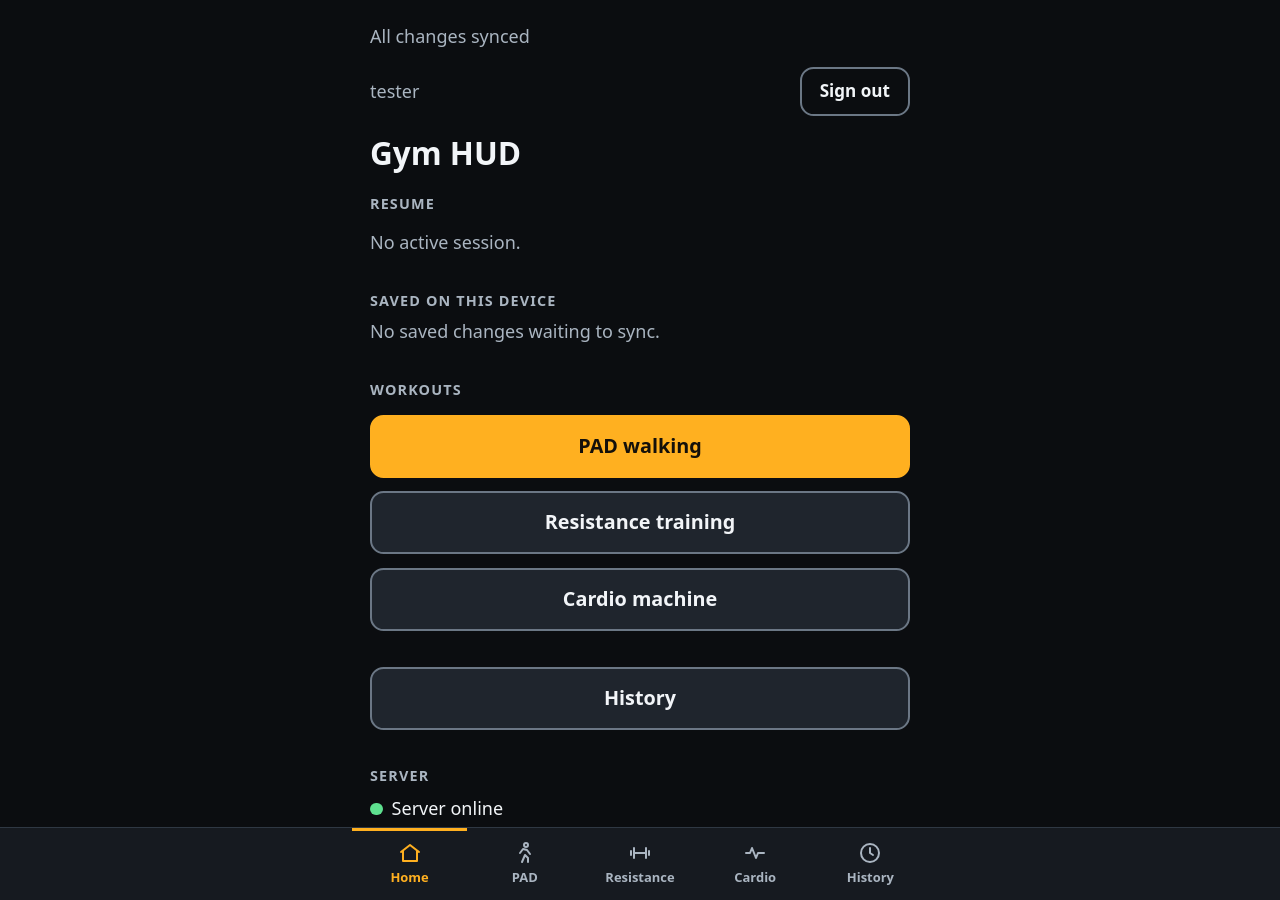
Test case: navigation smoke test › opens a domain screen from the Home workout buttons
Click the link "PAD walking".
click(640, 446)  # box top-left (370, 414), bottom-right (910, 478)
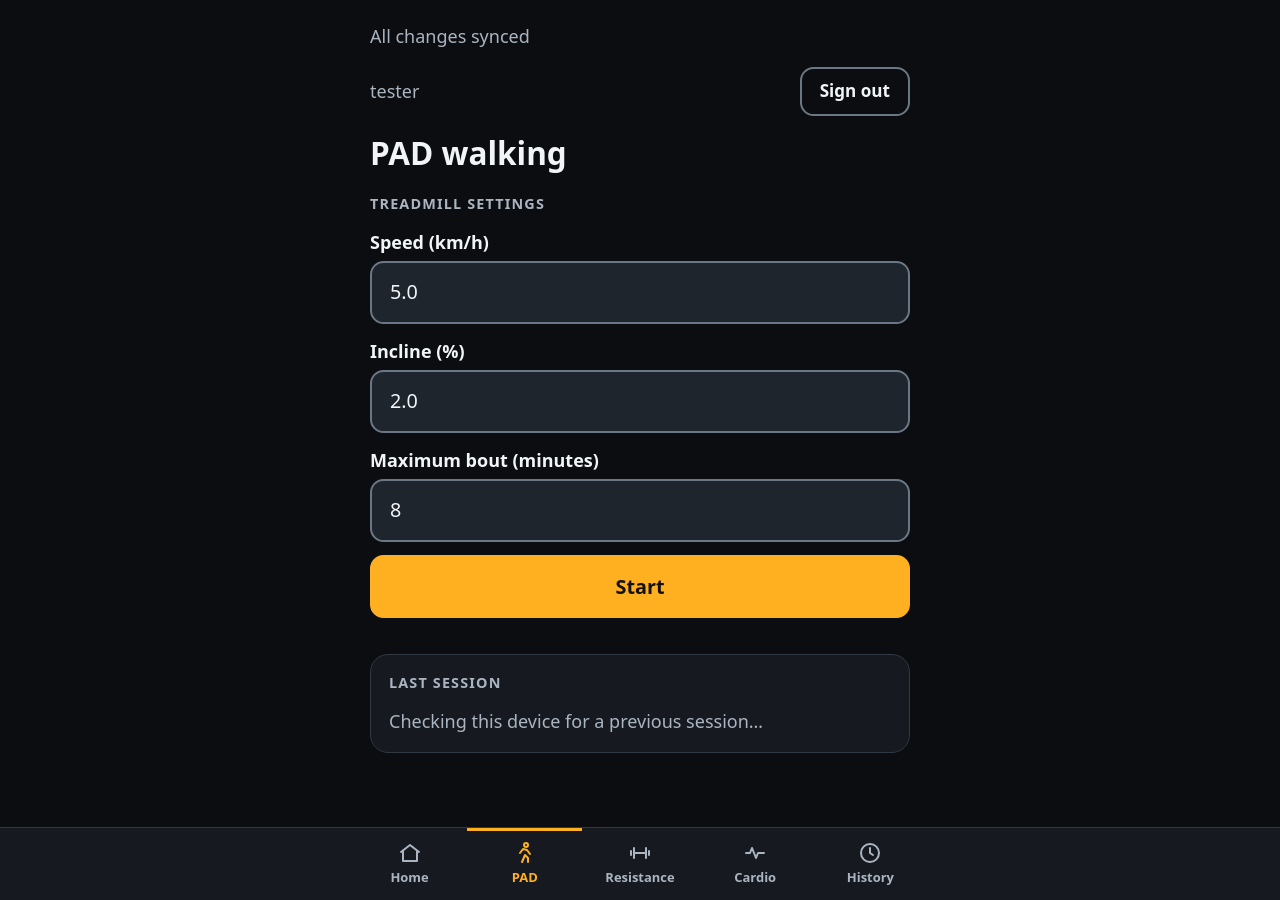
Expected: the heading "PAD walking" is shown, top-left (370, 131), bottom-right (567, 174)
